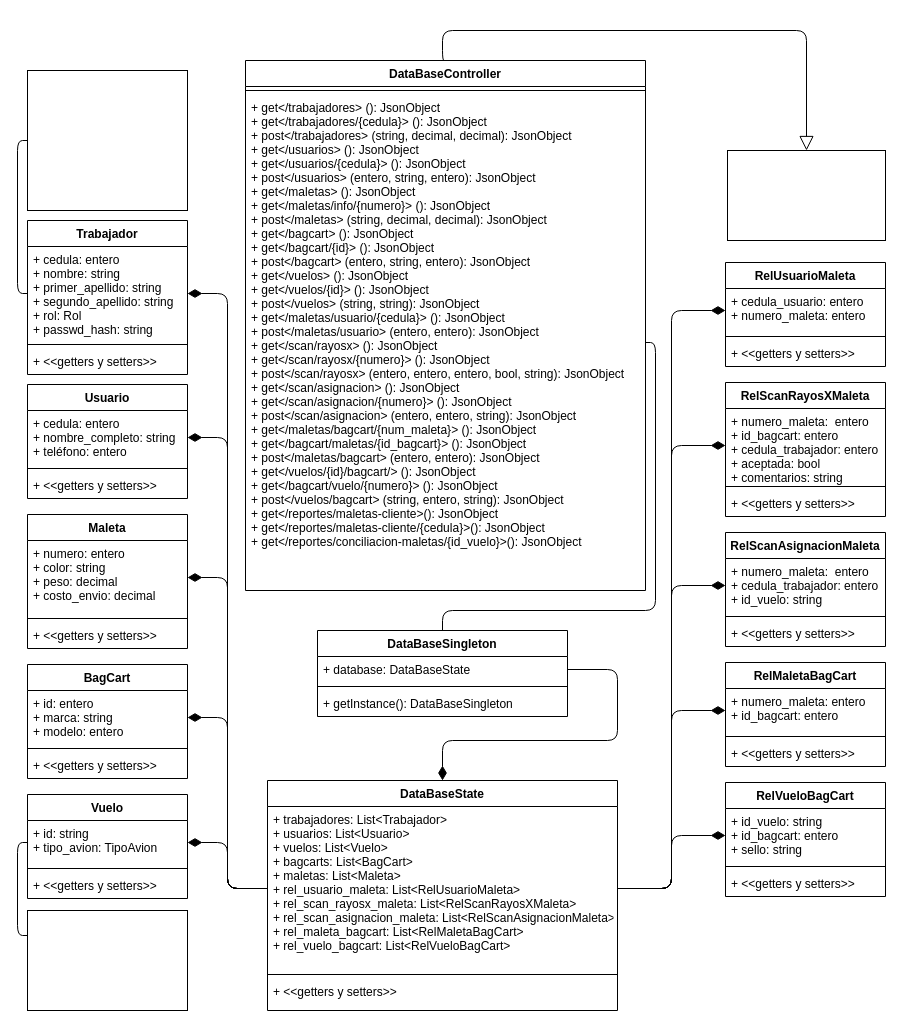
The diagram is 903 pixels wide and 1031 high, and some of its shapes have lost their labels. The shapes that lost their labels are listed below. From the top down, each one's centre as x and y in pixels, then its label:
(x=107, y=140): <<enumeration>> Rol Embarcador Scan Administrador Recepcionista
(x=806, y=195): ControllerBase (Parte del ASP.NET Core)
(x=107, y=960): <<enumeration>> TipoAvion Pasajeros = 223 Cargo = 23 Combi = 64
